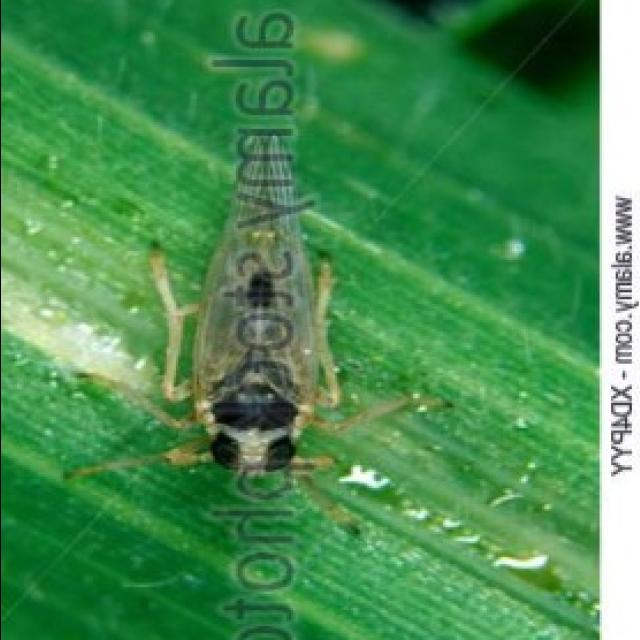brown plant hopper: (150, 12, 338, 481)
